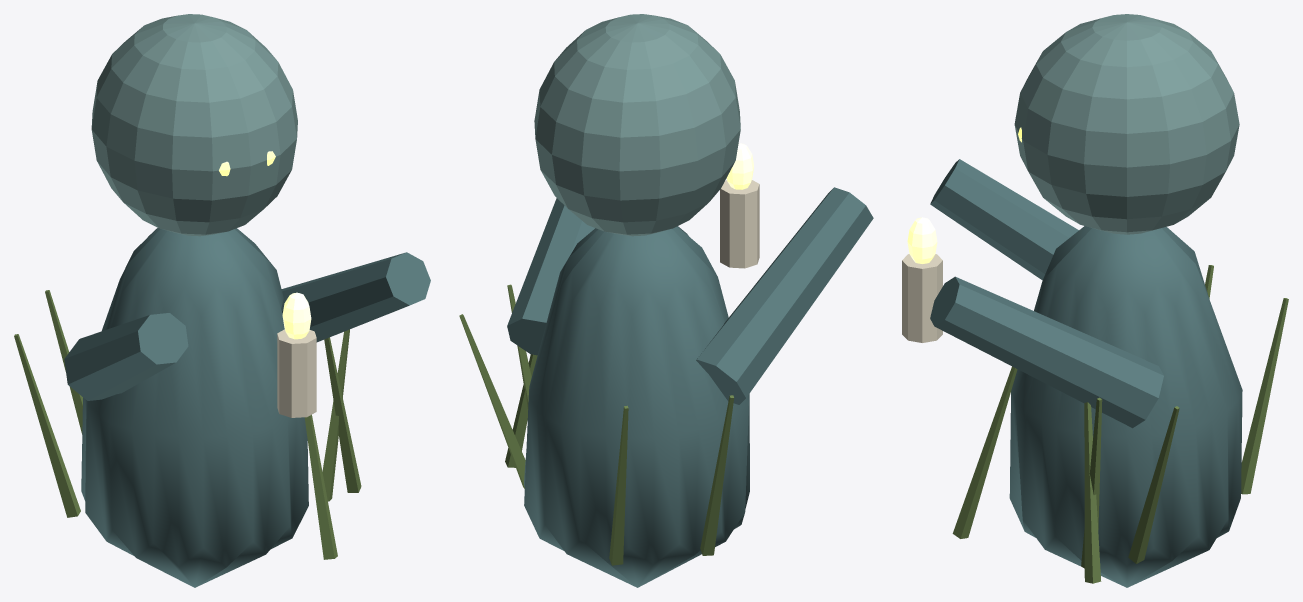
Rendered from drowned_novice.glb.
3 renders of one model, left to right at view 1: azimuth 30°, elevation 25°; view 2: azimuth 150°, elevation 25°; view 3: azimuth 270°, elevation 25°, orthographic.
Visible parts, largest first — view 1: drowned_novice; view 2: drowned_novice; view 3: drowned_novice.
Boxes of the visible parts, left/top/right/bottom form: drowned_novice: left=14, top=14, right=430, bottom=587; drowned_novice: left=459, top=14, right=873, bottom=587; drowned_novice: left=902, top=14, right=1288, bottom=587.
Bounding box in the file's own units: 0.5064 × 0.9151 × 0.5673.
